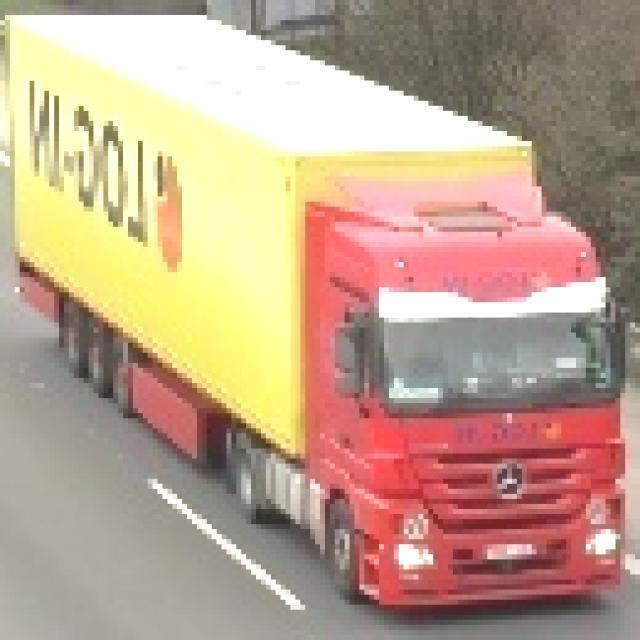TRUCK: (2, 13, 632, 617)
